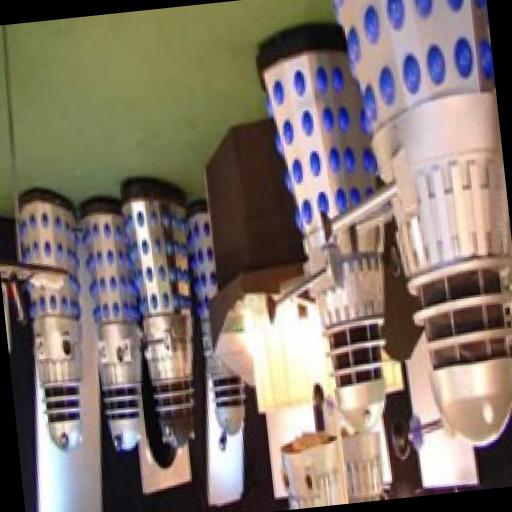dalek: (294, 0, 512, 462), (246, 17, 410, 439), (114, 169, 212, 452), (13, 186, 102, 456), (182, 195, 260, 455), (76, 194, 150, 454)
